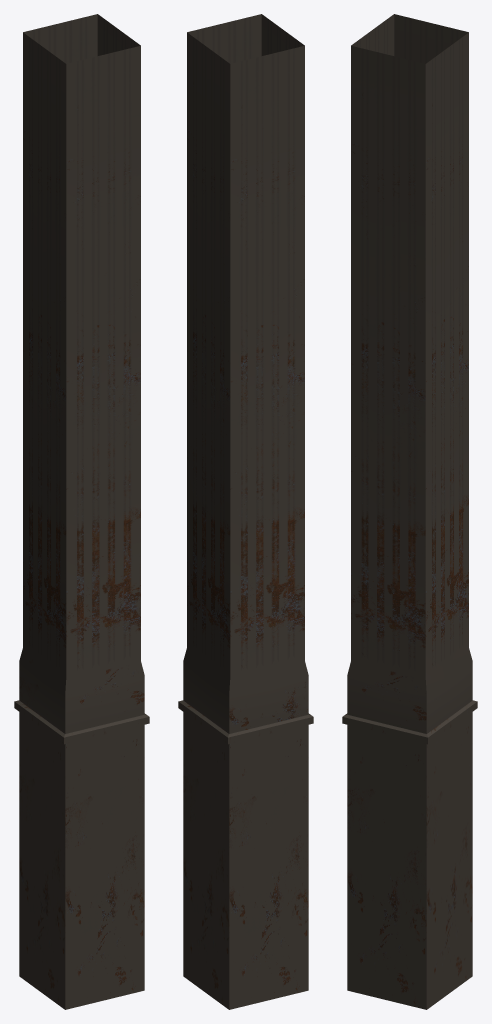
Rendered from Metal_Column_Small_Bottom.gltf.
The picture shows the model from 3 angles, left to right: view 1: azimuth 30°, elevation 25°; view 2: azimuth 210°, elevation 25°; view 3: azimuth 330°, elevation 25°; orthographic projection.
Visible parts, largest first — view 1: Metal_Column_Small_Bottom; view 2: Metal_Column_Small_Bottom; view 3: Metal_Column_Small_Bottom.
Boxes of the visible parts, box(x1,y1,x2,y2) form: Metal_Column_Small_Bottom: box(14, 14, 149, 1009); Metal_Column_Small_Bottom: box(178, 14, 313, 1009); Metal_Column_Small_Bottom: box(342, 14, 477, 1009).
Size of the model in its own units: 0.2845 by 3 by 0.2847.
1 material, 1 textured.
